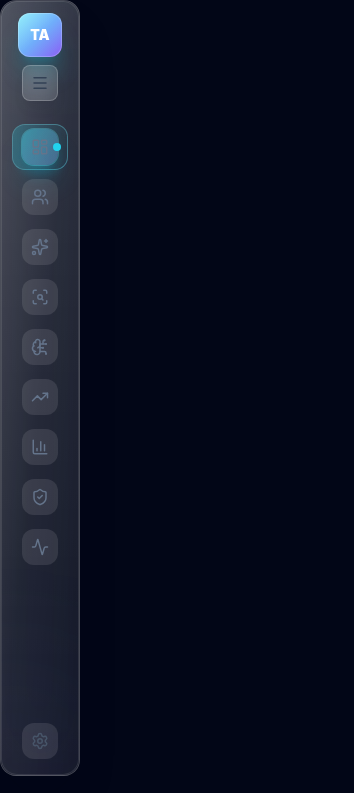
Test: Sidebar › shows collapsed submenu tooltip on hover
Hover over the button named "administration" at coordinates (40, 197), box [13,175,67,219]
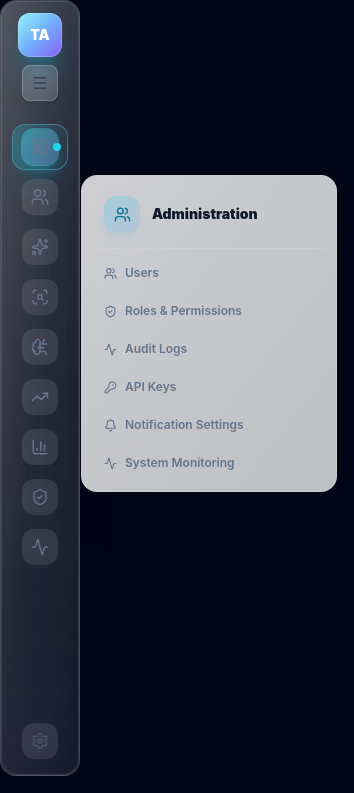
Result: the tooltip shows "Roles & Permissions" at [92,293,326,329]
